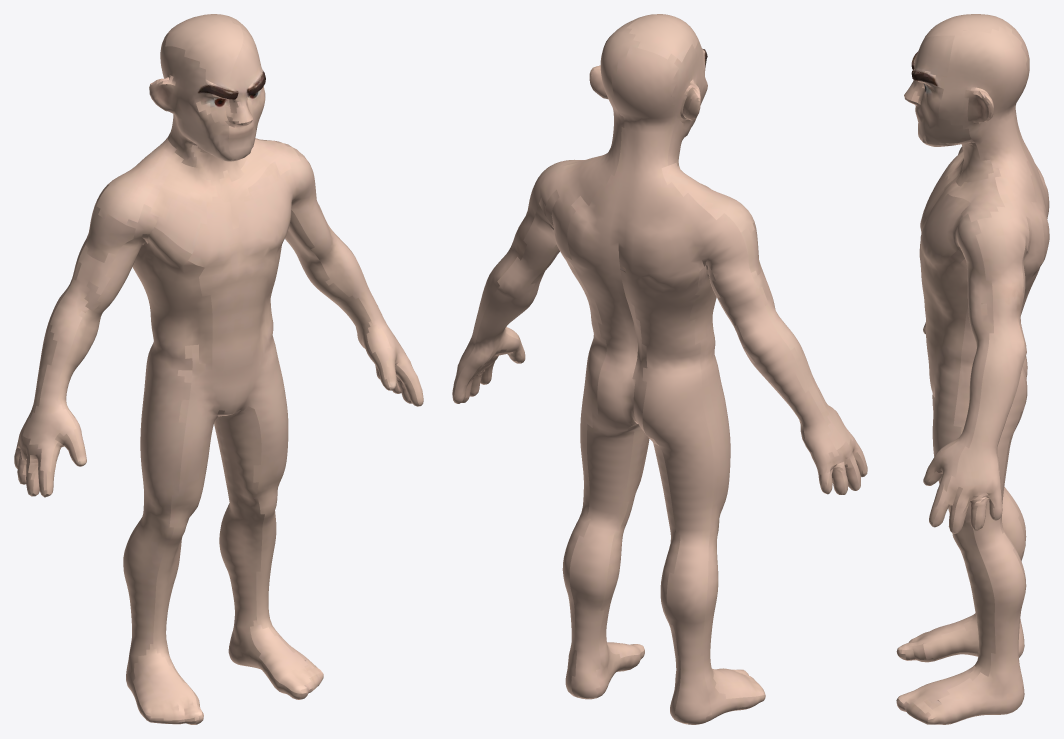
The model's file is male.glb.
3 renders of one model, left to right at view 1: azimuth 30°, elevation 25°; view 2: azimuth 150°, elevation 25°; view 3: azimuth 270°, elevation 25°, orthographic.
Visible parts, largest first — view 1: endurance; view 2: endurance; view 3: endurance.
Boxes of the visible parts, x1,y1,x2,y2 form: endurance: [14, 14, 423, 724]; endurance: [452, 14, 867, 724]; endurance: [896, 14, 1049, 724].
Bounding box in the file's own units: 1.09 × 1.8 × 0.3742.
1 material, 1 textured.
